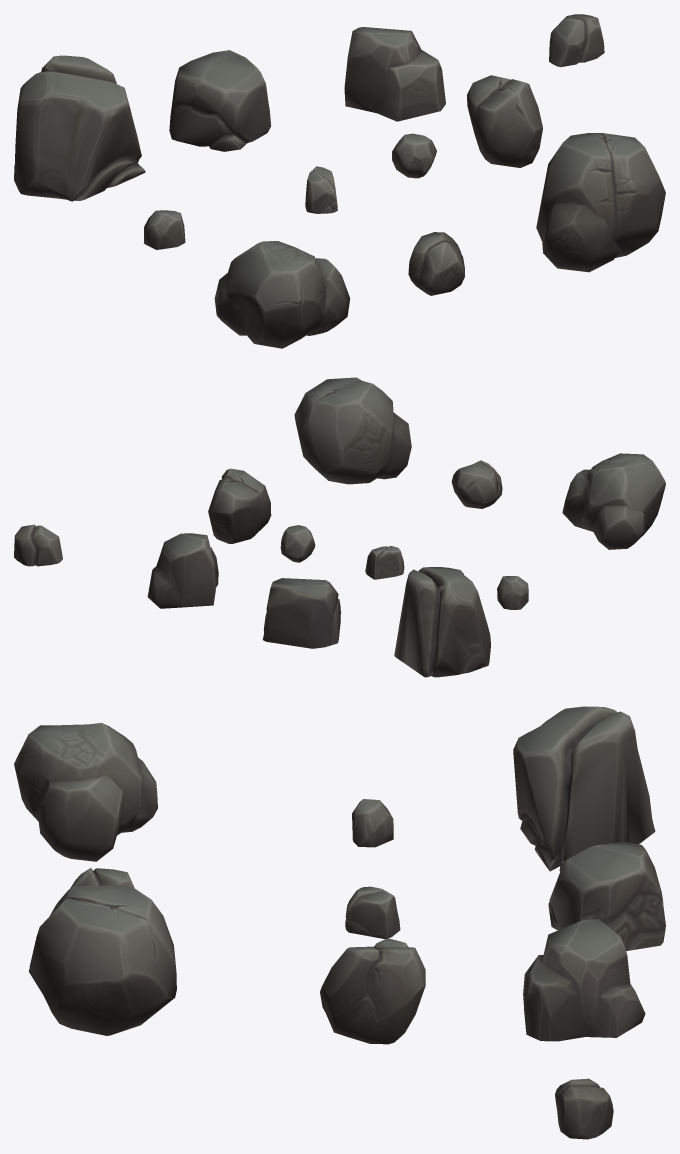
File: stylized_rock.glb
The picture shows the model from 3 angles, top to bottom: view 1: azimuth 30°, elevation 25°; view 2: azimuth 150°, elevation 25°; view 3: azimuth 270°, elevation 25°; orthographic projection. The views are drawn at different scales.
Parts seen in each view (by area): view 1: Rocks.001_0; view 2: Rocks.001_0; view 3: Rocks.001_0.
Part boxes in pixels (x1,y1,x2,y2): Rocks.001_0: (14,14,665,348); Rocks.001_0: (14,377,665,677); Rocks.001_0: (14,706,665,1139).
Bounding box in the file's own units: 1.87 × 0.3272 × 1.54.
Materials: 1 (1 with a texture image).
